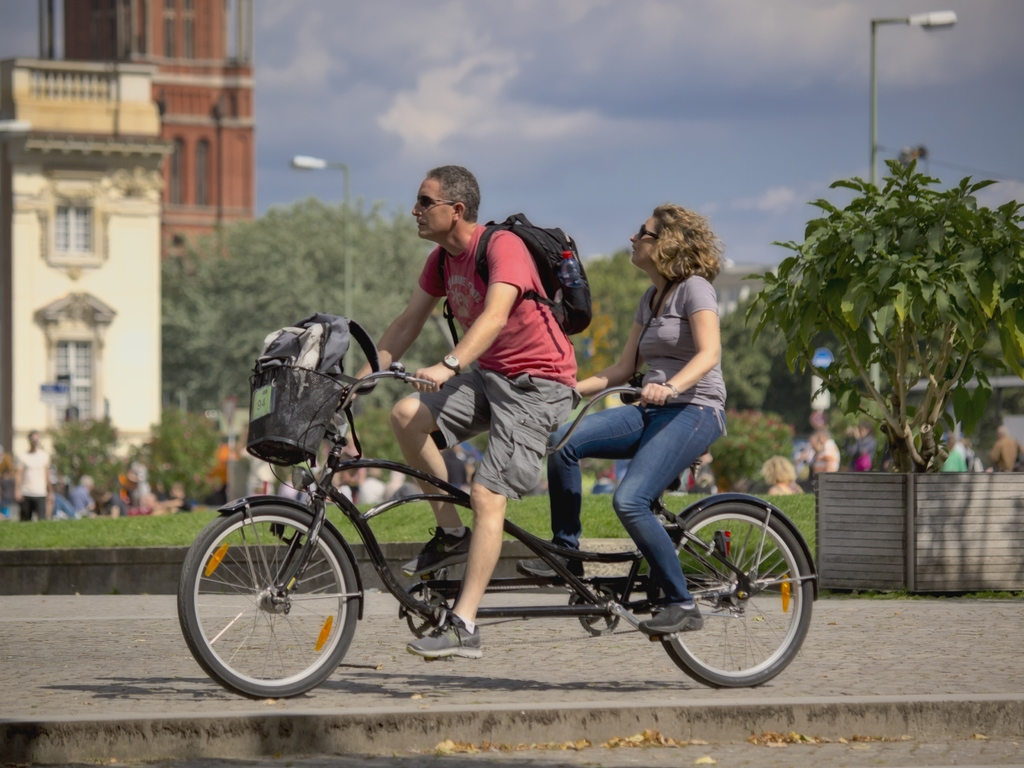Bike_away: (178, 317, 820, 690)
